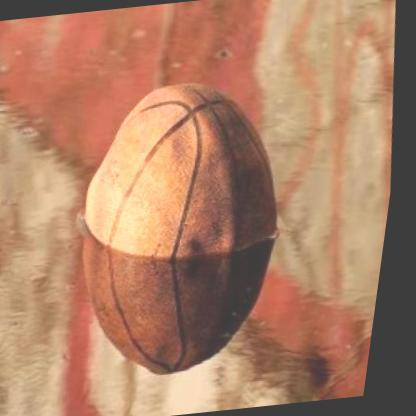basketball: (49, 67, 321, 391)
